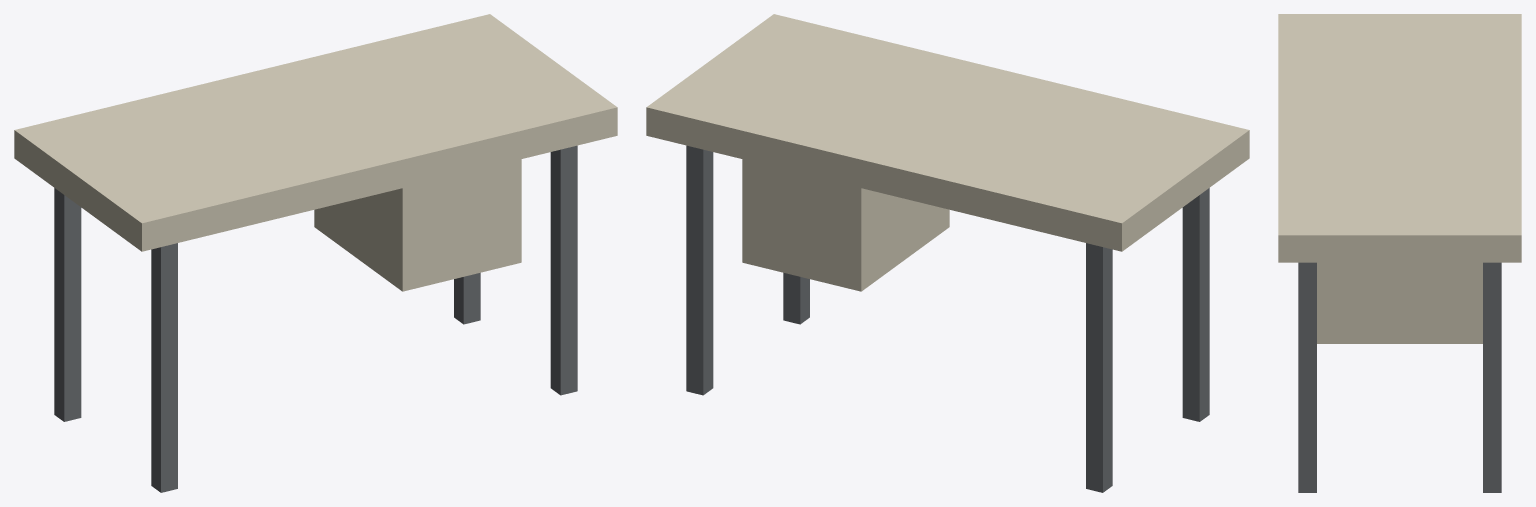
Rendered from desk_02.glb.
The picture shows the model from 3 angles, left to right: view 1: azimuth 30°, elevation 25°; view 2: azimuth 150°, elevation 25°; view 3: azimuth 270°, elevation 25°; orthographic projection. The views are drawn at different scales.
Visible parts, largest first — view 1: top, drawer, leg0.5880.24700000000000003, leg-0.5880.24700000000000003, leg-0.588-0.24700000000000003, leg0.588-0.24700000000000003; view 2: top, drawer, leg0.588-0.24700000000000003, leg-0.588-0.24700000000000003, leg-0.5880.24700000000000003, leg0.5880.24700000000000003; view 3: top, drawer, leg0.588-0.24700000000000003, leg0.5880.24700000000000003.
Part boxes in pixels (left/top/right/bottom): top: left=14, top=14, right=617, bottom=251; drawer: left=314, top=159, right=521, bottom=291; leg0.5880.24700000000000003: left=550, top=145, right=577, bottom=395; leg-0.5880.24700000000000003: left=151, top=243, right=177, bottom=492; leg-0.588-0.24700000000000003: left=54, top=188, right=81, bottom=421; leg0.588-0.24700000000000003: left=454, top=272, right=480, bottom=324; top: left=646, top=14, right=1249, bottom=251; drawer: left=742, top=159, right=949, bottom=291; leg0.588-0.24700000000000003: left=686, top=145, right=713, bottom=395; leg-0.588-0.24700000000000003: left=1086, top=243, right=1112, bottom=492; leg-0.5880.24700000000000003: left=1182, top=188, right=1209, bottom=421; leg0.5880.24700000000000003: left=783, top=272, right=809, bottom=324; top: left=1278, top=14, right=1521, bottom=262; drawer: left=1317, top=262, right=1482, bottom=343; leg0.588-0.24700000000000003: left=1483, top=262, right=1501, bottom=492; leg0.5880.24700000000000003: left=1298, top=262, right=1316, bottom=492.
Bounding box in the file's own units: 1.4 × 0.8 × 0.65.
